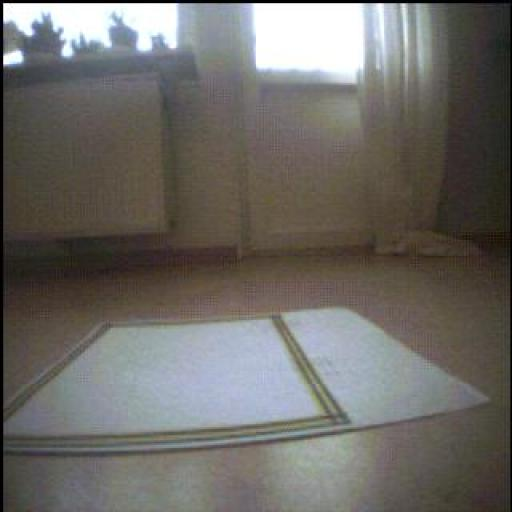Pad: (5, 310, 488, 454), (284, 310, 489, 428)
